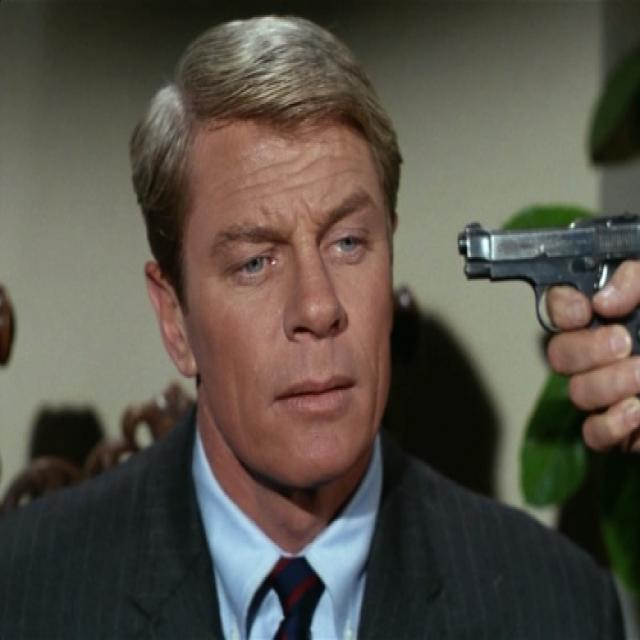weapons: (443, 179, 640, 374)
